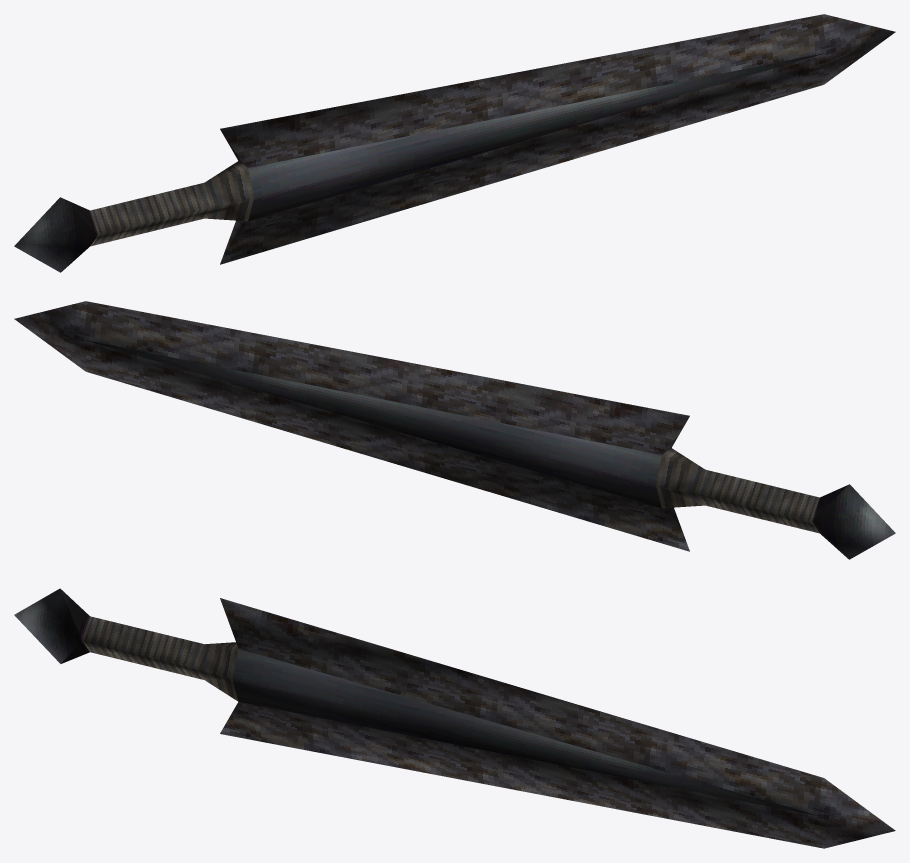
3 views of the same model, one above another, from view 1: azimuth 30°, elevation 25°; view 2: azimuth 150°, elevation 25°; view 3: azimuth 330°, elevation 25° (orthographic).
Visible parts, largest first — view 1: IT120_DMSPRITEDEF_node; view 2: IT120_DMSPRITEDEF_node; view 3: IT120_DMSPRITEDEF_node.
Part boxes in pixels (bbox=[...]): IT120_DMSPRITEDEF_node: bbox=[14, 14, 895, 272]; IT120_DMSPRITEDEF_node: bbox=[14, 301, 895, 559]; IT120_DMSPRITEDEF_node: bbox=[14, 588, 895, 848].
Bounding box in the file's own units: 4.31 × 0.6353 × 0.1792.
Materials: 3 (3 with a texture image).
